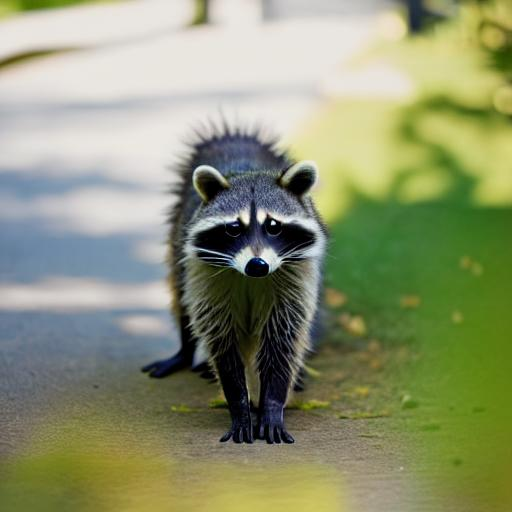raccoon: (157, 109, 335, 409)
